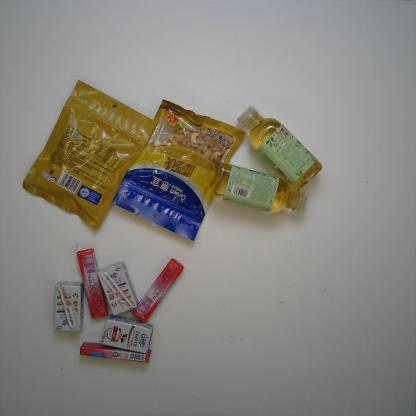Candy: (130, 256, 185, 324), (77, 246, 107, 320), (80, 340, 152, 364)
Dried Fruit: (17, 76, 160, 234), (107, 96, 247, 242)
Drink: (234, 105, 324, 191), (209, 160, 313, 215)
Milk: (96, 260, 140, 320), (98, 313, 154, 354), (54, 280, 84, 335)
